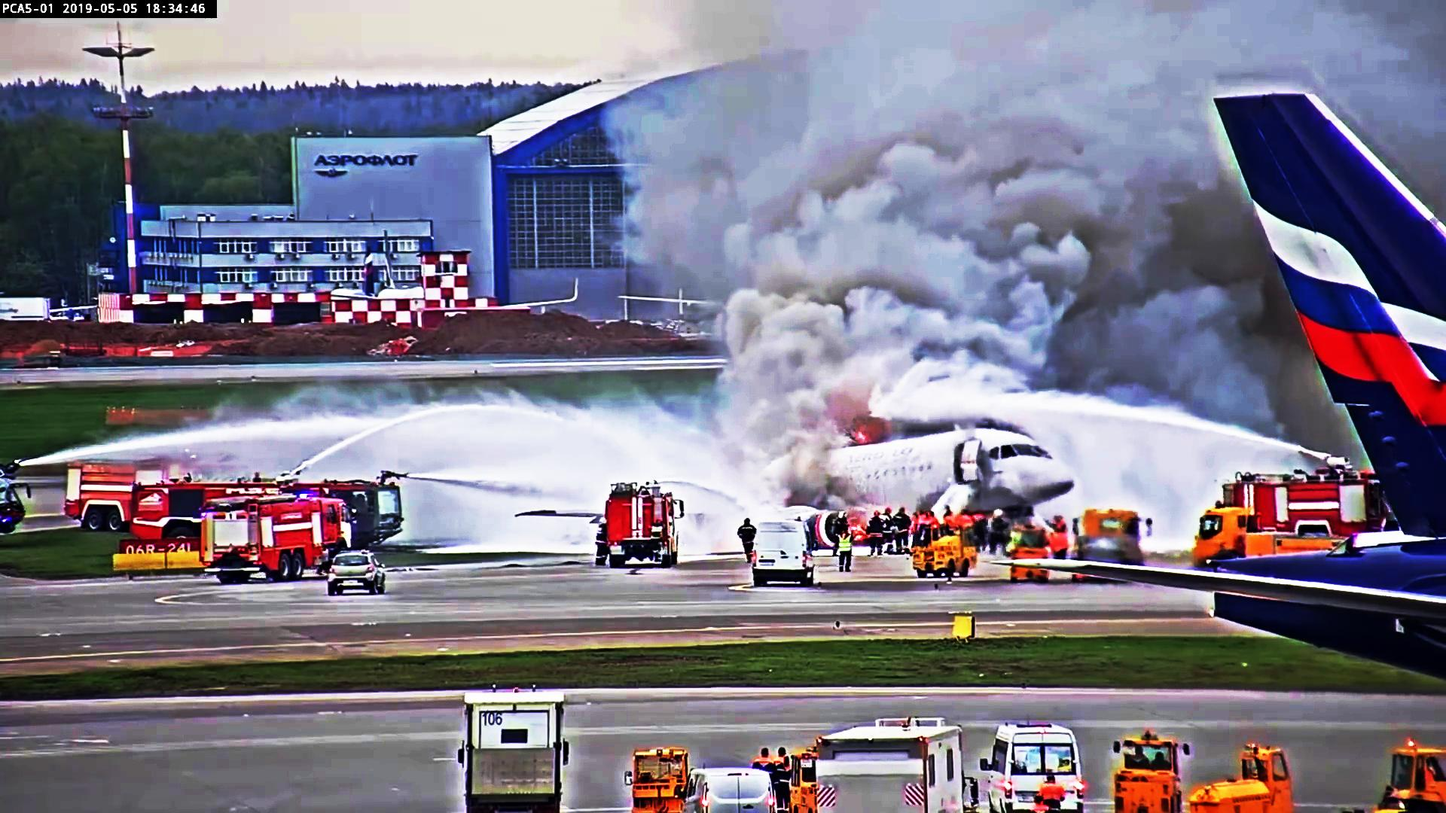smoke: (699, 0, 1141, 356)
